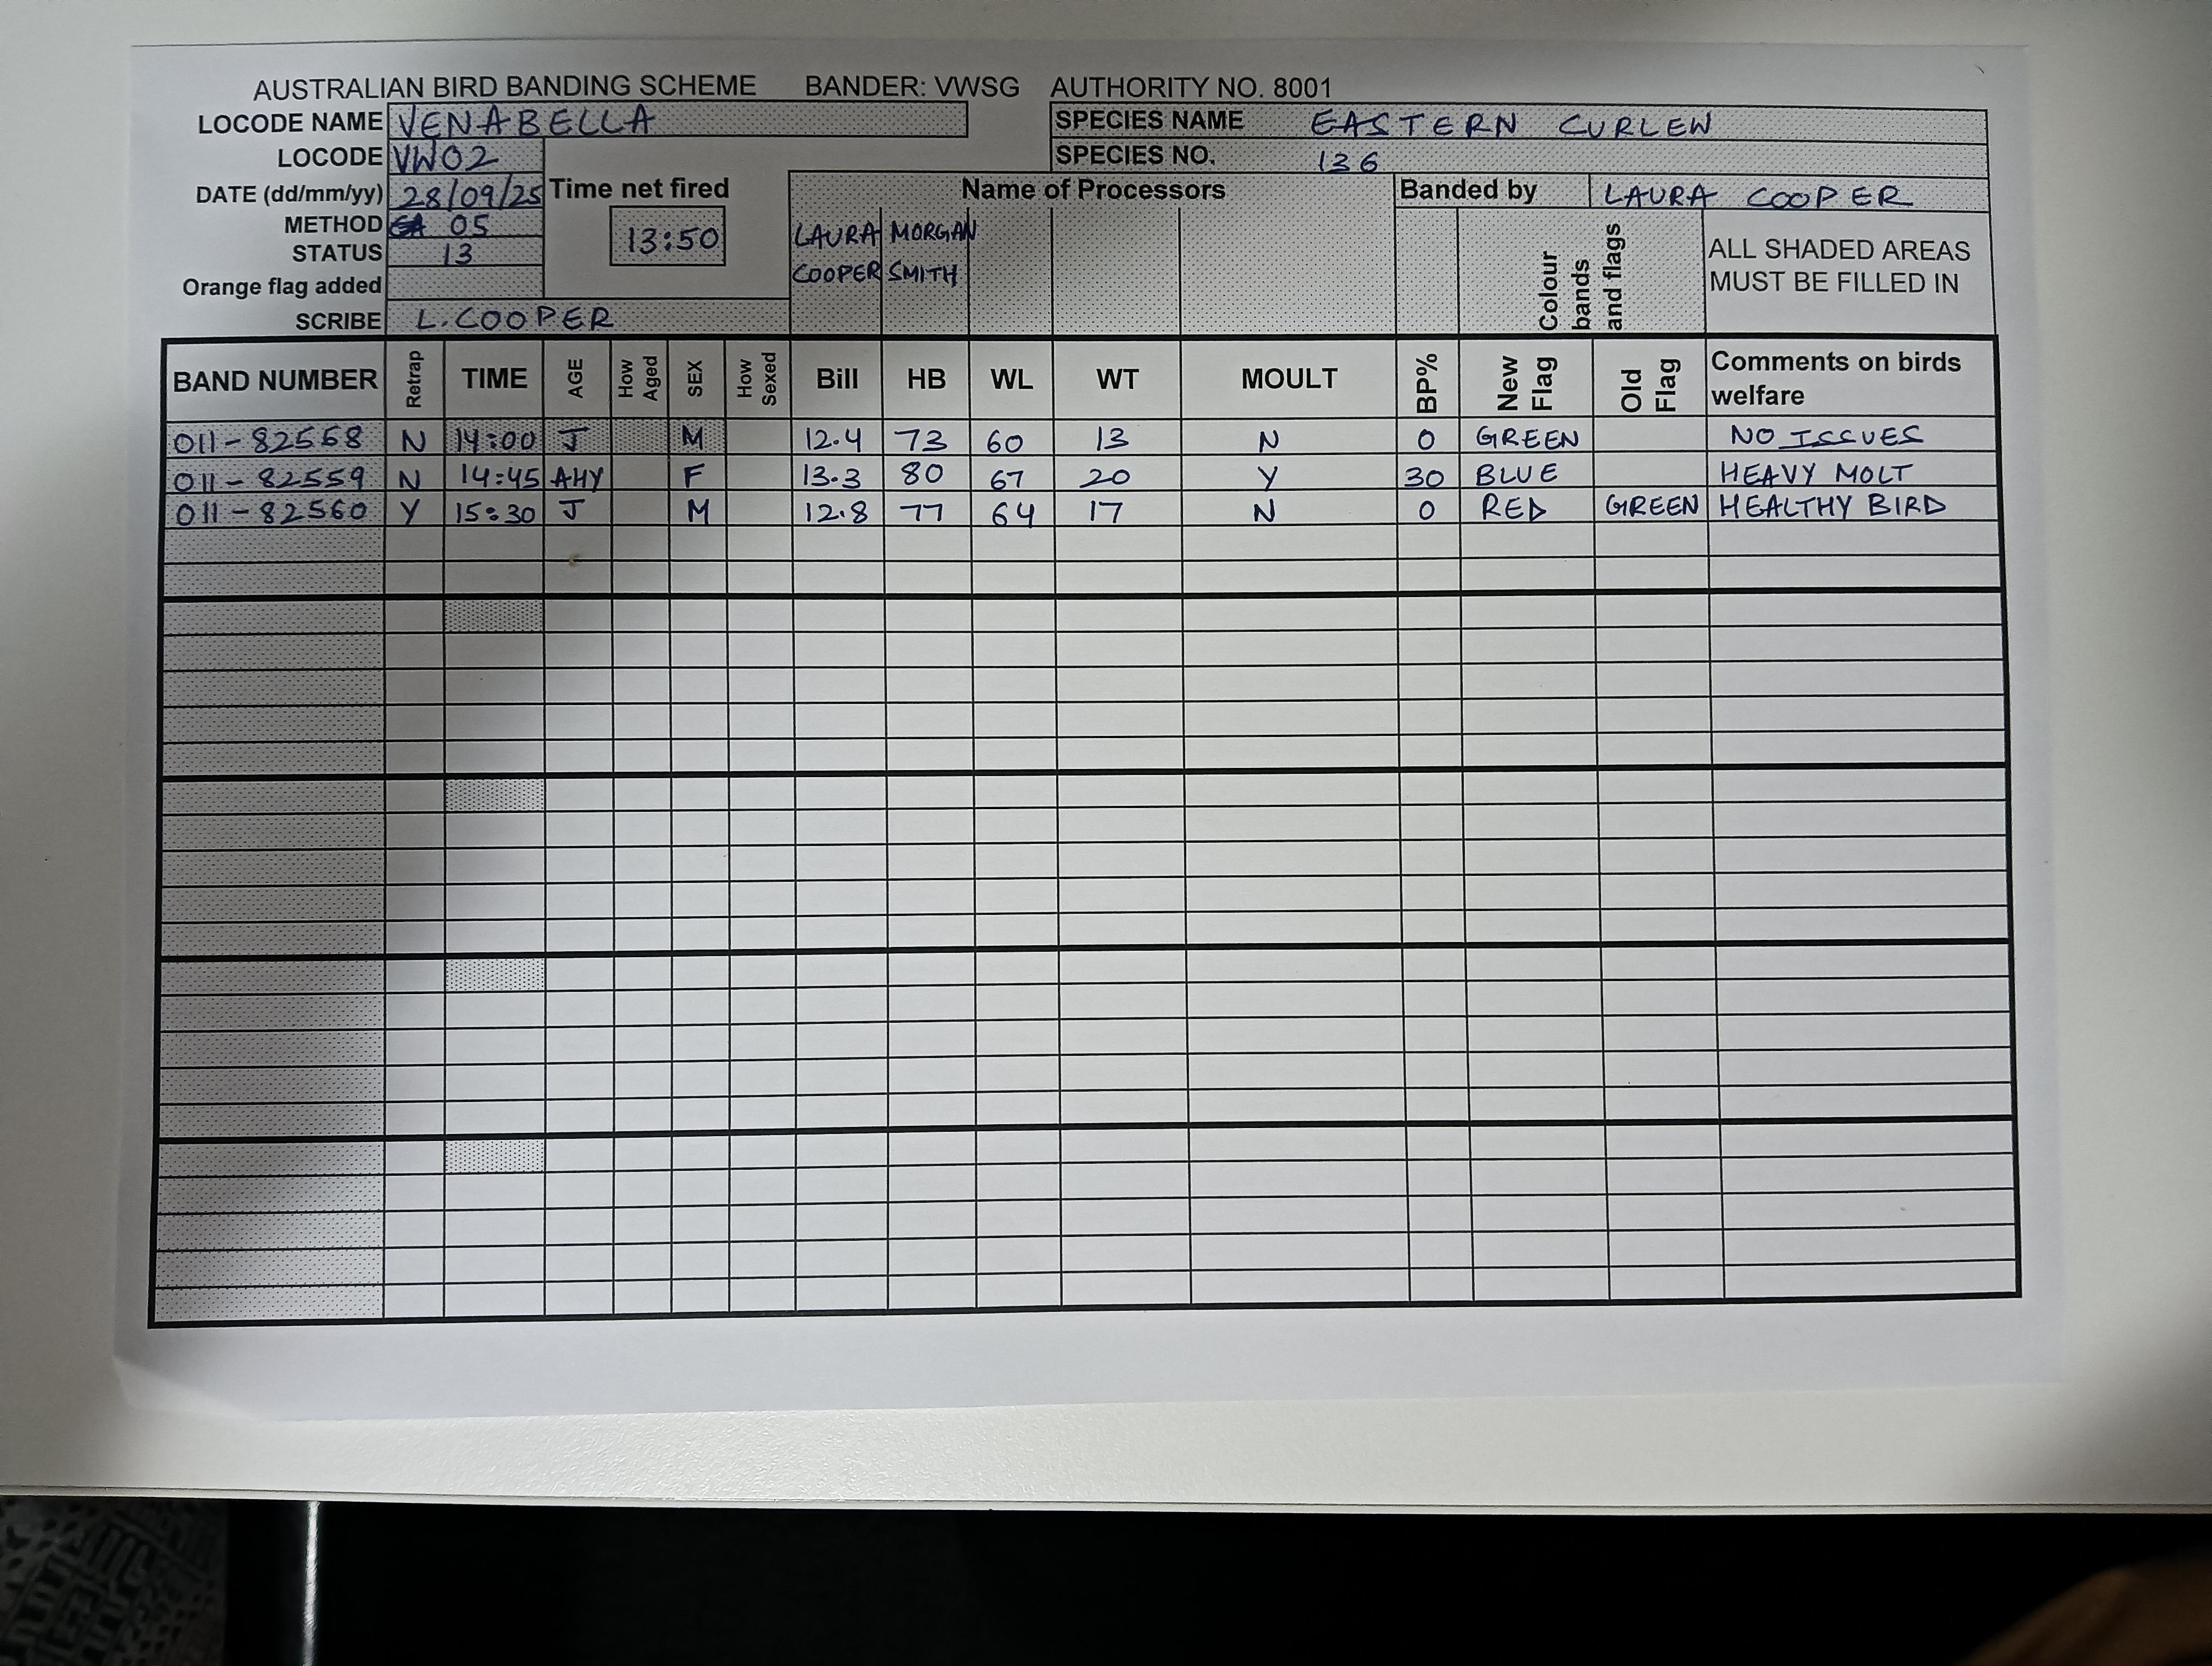BANDED_BY: (1392, 172, 1995, 212)
DATA: (164, 415, 1995, 459), (171, 487, 2002, 530), (159, 450, 2000, 490)
DATE: (187, 175, 554, 210)
LOCOCODE: (269, 138, 546, 177)
LOCOCODE_NAME: (178, 103, 967, 137)
METHOD: (275, 210, 547, 238)
NAME_OF_PROCESSORS: (885, 192, 988, 340), (792, 189, 883, 332)
ORANGE_FLAG_ADDED: (178, 269, 547, 297)
SCRIBE: (287, 299, 790, 338)
SPECIES_NAME: (1053, 105, 1988, 145)
SPECIES_NO: (1051, 135, 1995, 177)
STATUS: (276, 240, 546, 266)
TIME_NET_FIRED: (547, 150, 773, 289)
